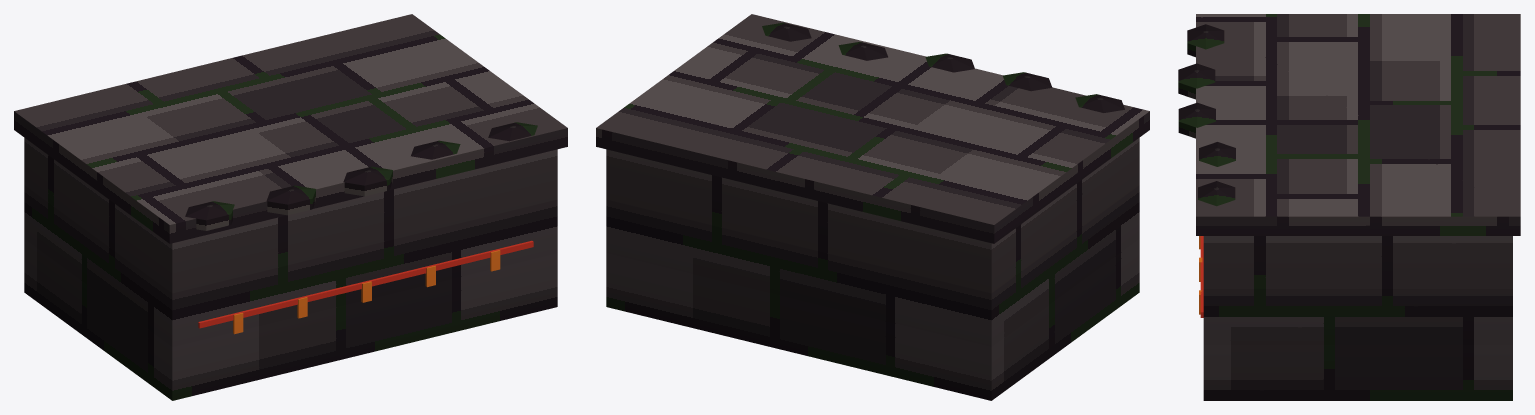
File: basalt_ledge.glb
The picture shows the model from 3 angles, left to right: view 1: azimuth 30°, elevation 25°; view 2: azimuth 150°, elevation 25°; view 3: azimuth 270°, elevation 25°; orthographic projection. The views are drawn at different scales.
Parts seen in each view (by area): view 1: basalt_ledge; view 2: basalt_ledge; view 3: basalt_ledge.
Boxes of the visible parts, bbox=[...] form: basalt_ledge: bbox=[14, 14, 567, 400]; basalt_ledge: bbox=[596, 14, 1149, 400]; basalt_ledge: bbox=[1178, 14, 1520, 400].
Bounding box in the file's own units: 3.1 × 1.38 × 2.21.
2 materials, 1 textured.
